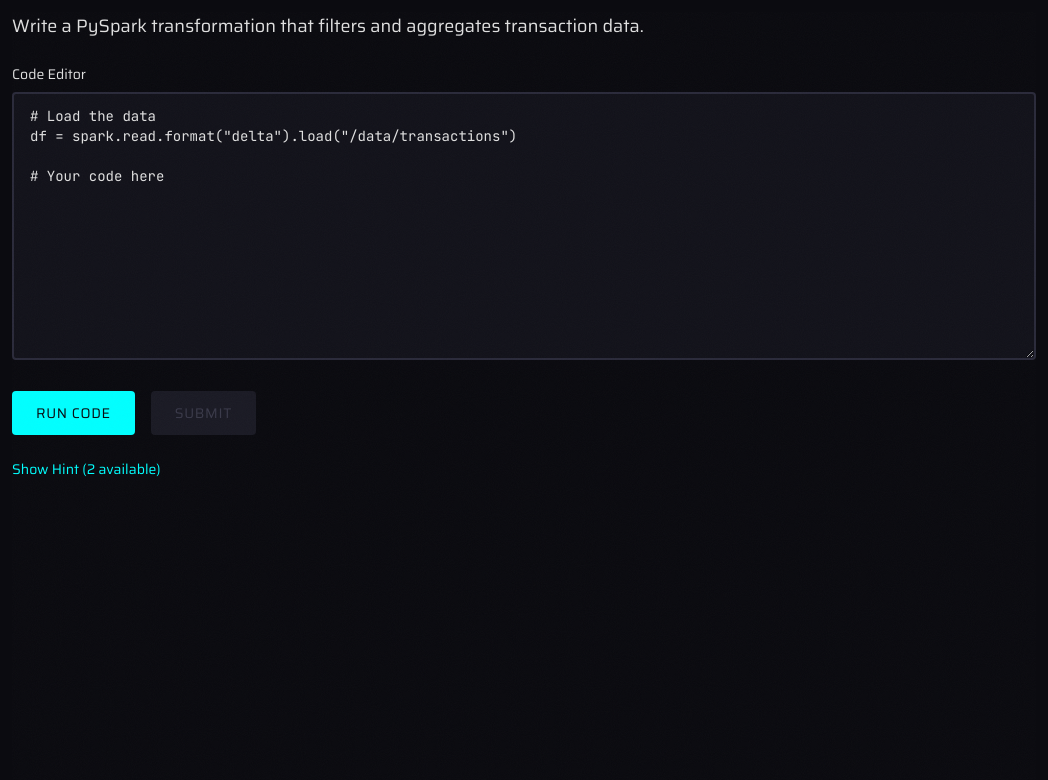
Test: FreeTextChallenge › Hint Display › shows first hint when button is clicked
The image size is (1048, 780).
Click the button "Show Hint (2 available)" at (86, 469), box 12,459 -> 161,479
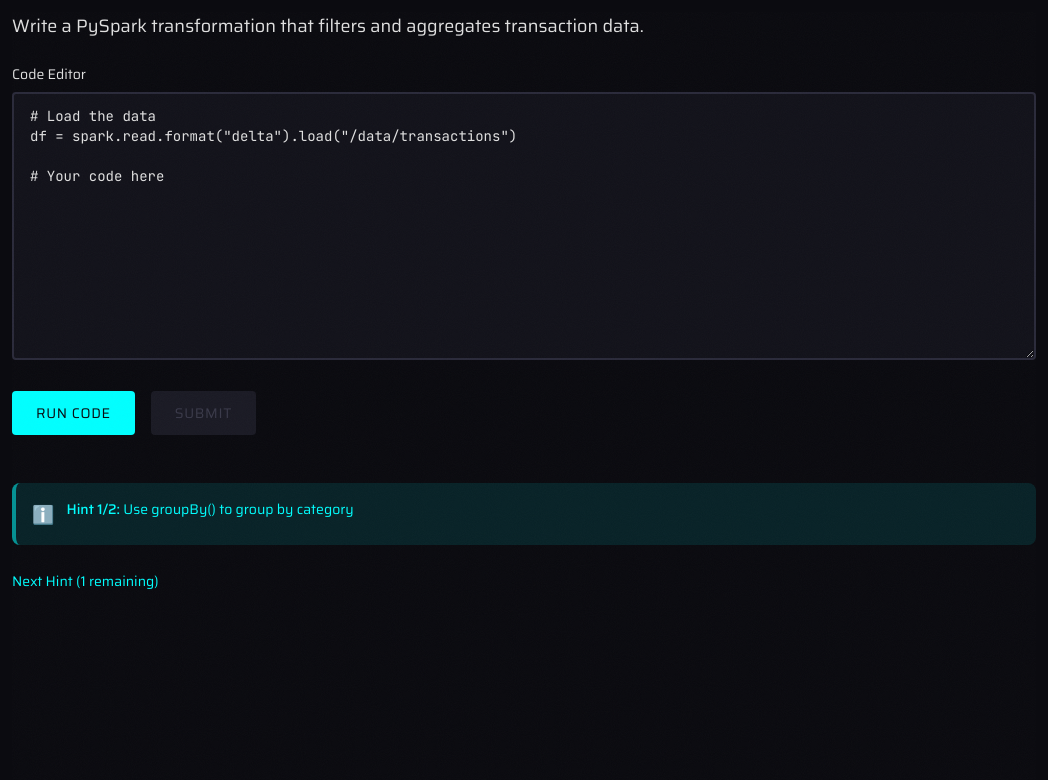
Expected: the text "Hint 1/2: Use groupBy() to group by category" is shown, 66,498 -> 354,520
